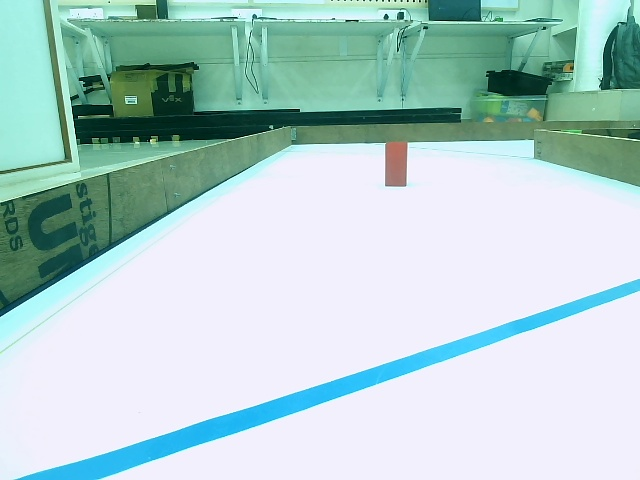red: (384, 142, 407, 186)
